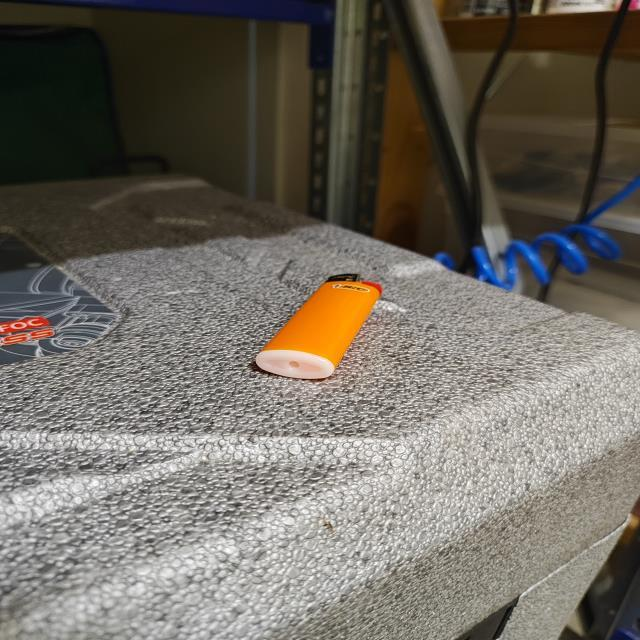lighter: (256, 274, 380, 379)
